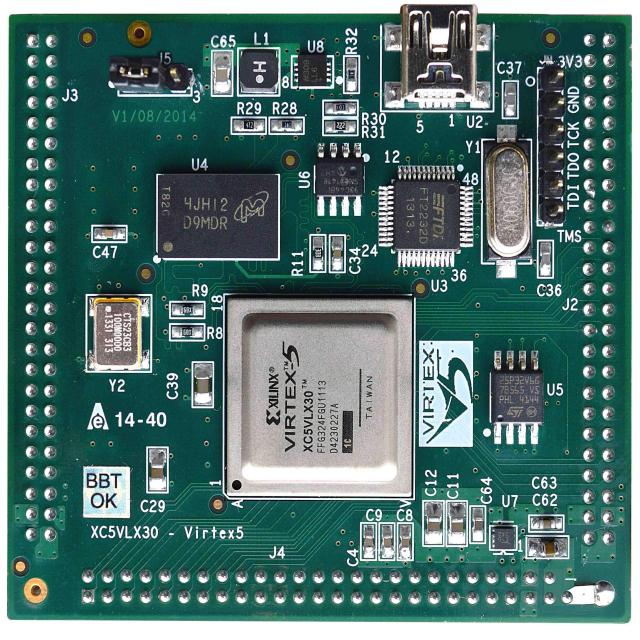Capacitor: (212, 51, 233, 97), (526, 536, 569, 558), (193, 362, 213, 408), (148, 447, 168, 493), (423, 501, 443, 547), (448, 501, 467, 547), (501, 80, 519, 119), (329, 235, 346, 273), (529, 514, 564, 532), (379, 523, 396, 560), (470, 506, 486, 545), (398, 523, 414, 561), (92, 226, 127, 242), (538, 241, 553, 278), (361, 523, 376, 560)
Clock: (482, 123, 530, 280), (87, 295, 151, 371)
Connector: (381, 4, 494, 111), (538, 67, 562, 228), (165, 62, 193, 98)
IC: (225, 299, 413, 503), (156, 174, 279, 260), (380, 165, 472, 266), (489, 350, 543, 446), (313, 141, 366, 217), (291, 54, 335, 90), (490, 524, 518, 550)
Inductor: (236, 48, 280, 98)
Jumper: (103, 55, 166, 98)
Pins: (76, 568, 616, 612), (17, 26, 62, 548), (581, 31, 620, 553)
Resistor Network: (170, 300, 206, 320), (269, 116, 304, 136), (170, 322, 204, 342), (342, 55, 360, 92), (169, 324, 205, 342), (324, 100, 359, 118), (323, 118, 358, 136), (310, 235, 326, 272), (231, 117, 267, 133)
